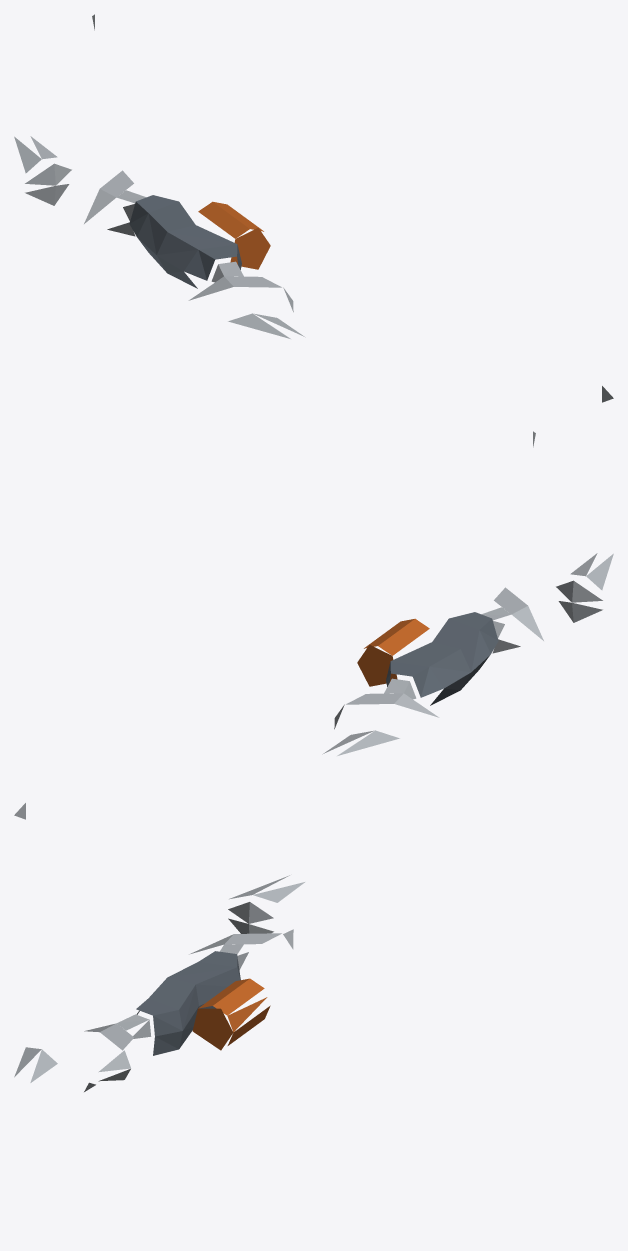
File: light-bow.lod.glb
3 renders of one model, top to bottom at view 1: azimuth 30°, elevation 25°; view 2: azimuth 150°, elevation 25°; view 3: azimuth 330°, elevation 25°, orthographic.
Visible parts, largest first — view 1: m; view 2: m; view 3: m.
Boxes of the visible parts, x1,y1,x2,y2 form: m: (14, 14, 613, 402); m: (14, 431, 613, 819); m: (14, 875, 304, 1091).
Bounding box in the file's own units: 0.1693 × 0.031 × 0.6746.
